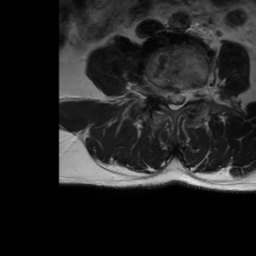CCS_normal: (171, 81, 178, 117)
LFS_normal: (186, 81, 195, 106)
LLS_normal: (178, 81, 186, 112)
RFS_normal: (155, 78, 163, 105)
RLS_normal: (163, 81, 171, 112)
